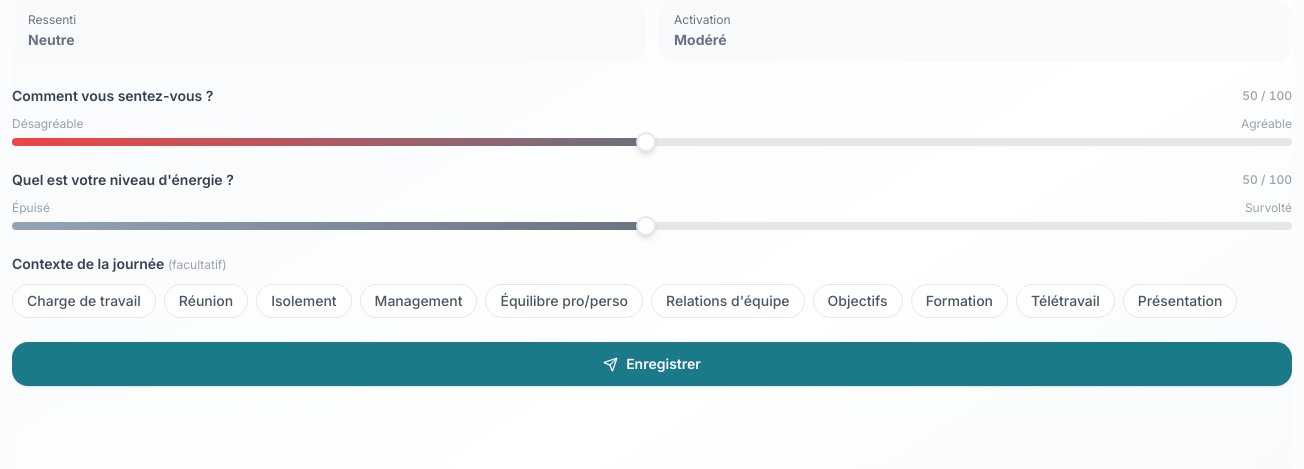
Test: MoodForm — Soumission › affiche un message d'erreur si l'API échoue
The image size is (1304, 469).
Click the button "Enregistrer": (652, 364) 12,342 -> 1292,386
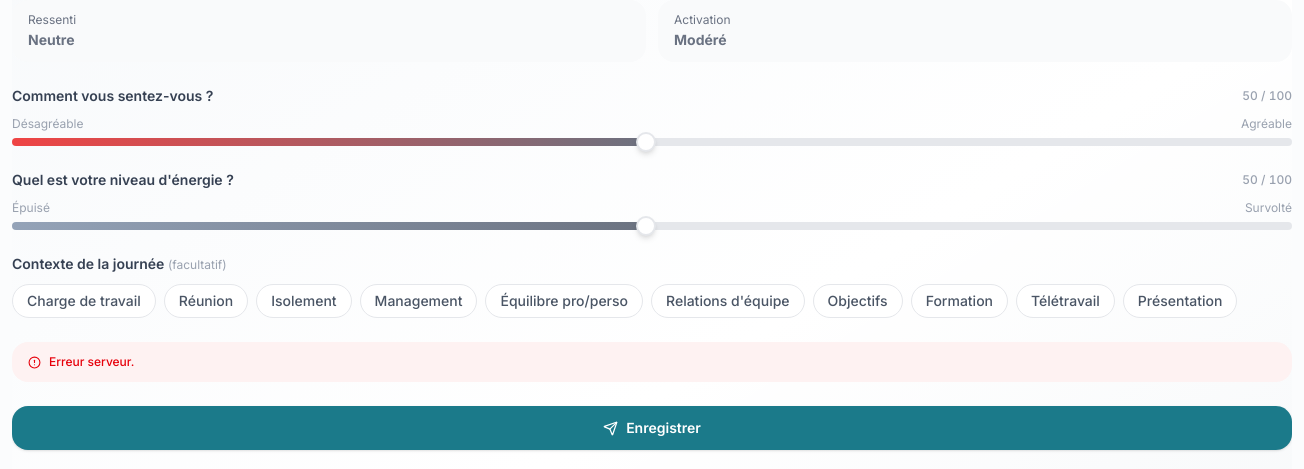
Now the text "Erreur serveur." is shown, box 12,342 -> 1292,382
